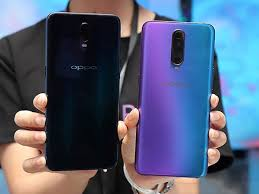oppo: (133, 17, 215, 181), (42, 9, 121, 173)
